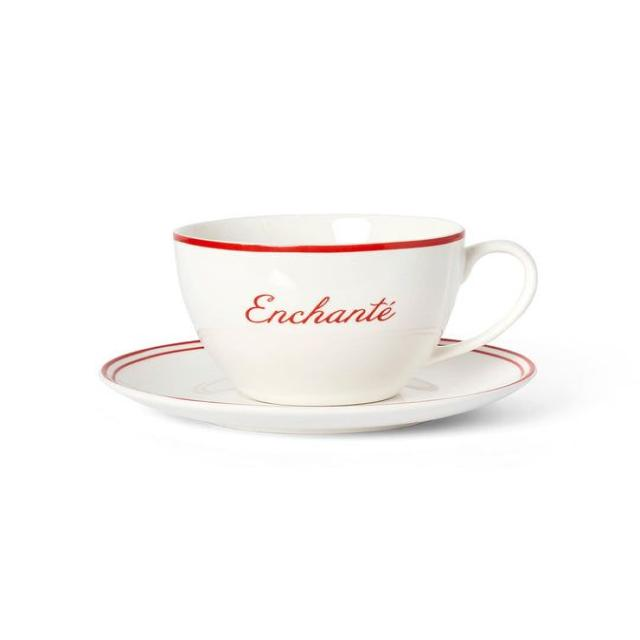glass cup: (171, 214, 538, 406)
